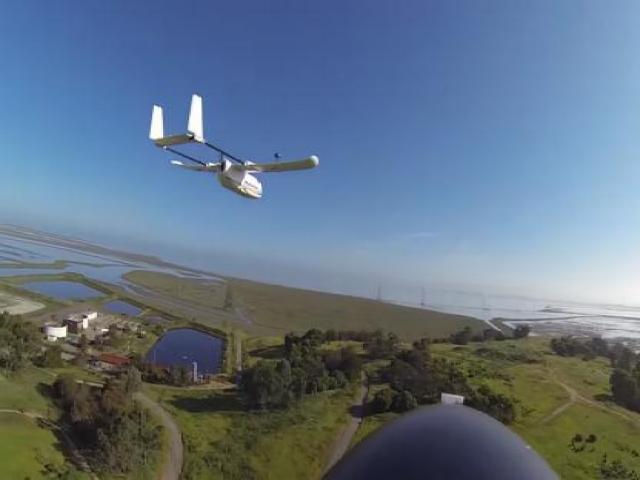uav: (143, 94, 320, 200)
